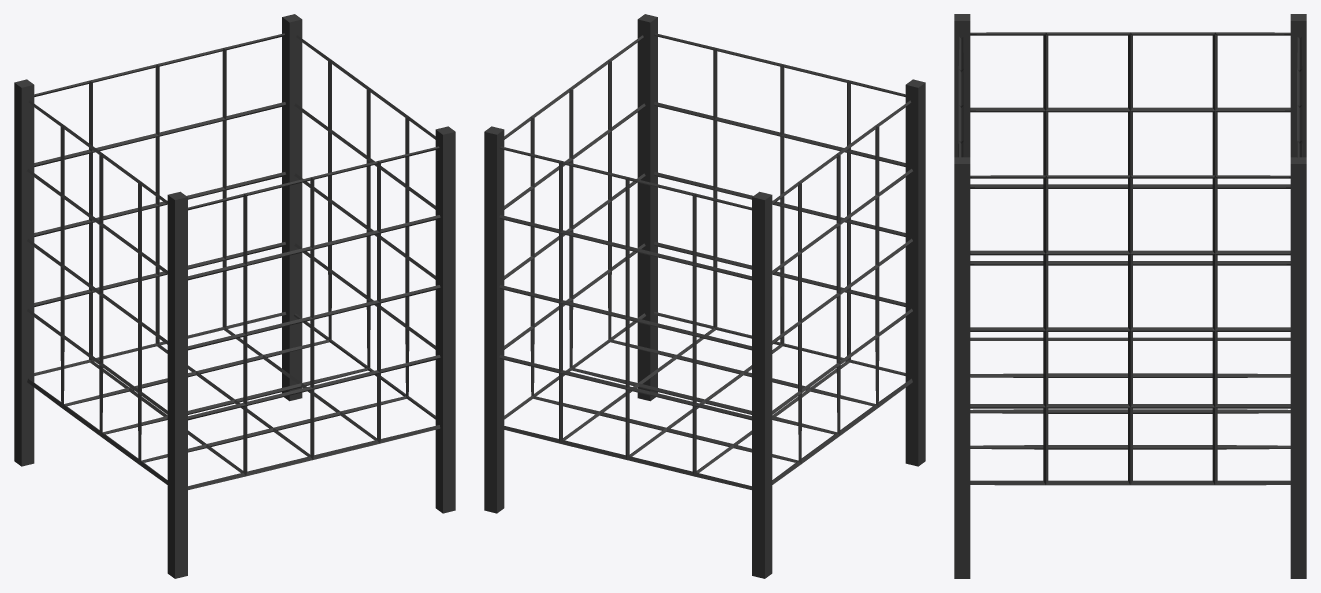
File: Basketball_Storage.fbx
The picture shows the model from 3 angles, left to right: view 1: azimuth 30°, elevation 25°; view 2: azimuth 150°, elevation 25°; view 3: azimuth 270°, elevation 25°; orthographic projection. The views are drawn at different scales.
Parts seen in each view (by area): view 1: Fence, Legs; view 2: Fence, Legs; view 3: Fence, Legs.
Boxes of the visible parts, x1,y1,x2,y2 form: Fence: [27, 33, 440, 489]; Legs: [14, 14, 455, 578]; Fence: [499, 33, 912, 489]; Legs: [484, 14, 925, 578]; Fence: [958, 32, 1302, 485]; Legs: [954, 14, 1306, 578].
Bounding box in the file's own units: 210 × 271 × 208.
Materials: 1 (1 with a texture image).
